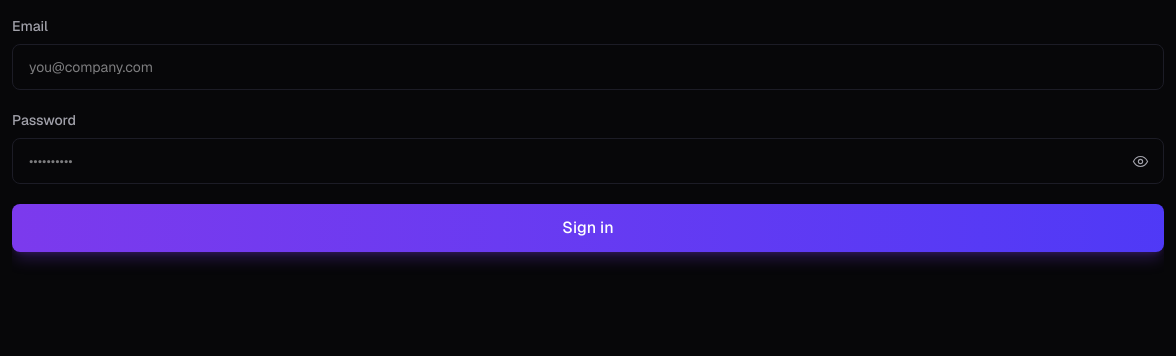
Test: LoginForm › reports an unreachable auth service
The width and height of the screenshot is (1176, 356).
In the field labelled "Email": (588, 67) [12,44,1164,90], type "a@b.test"
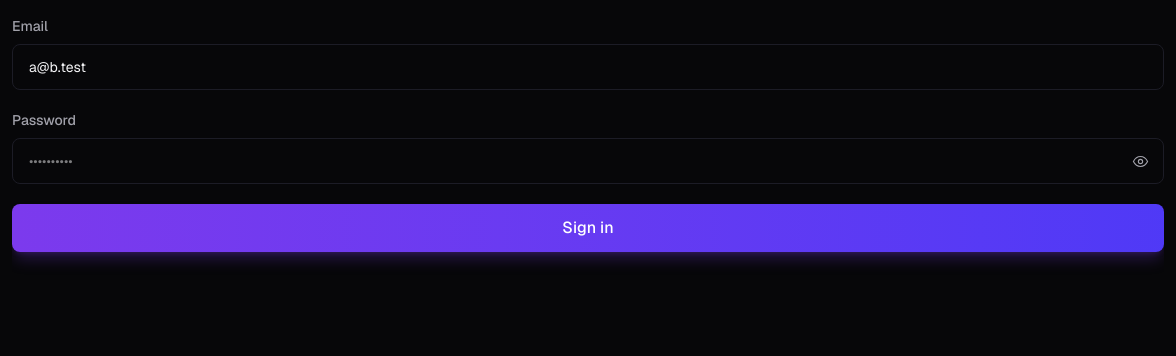
In the password field labelled "Password": (588, 161) [12,138,1164,184], type "secret"
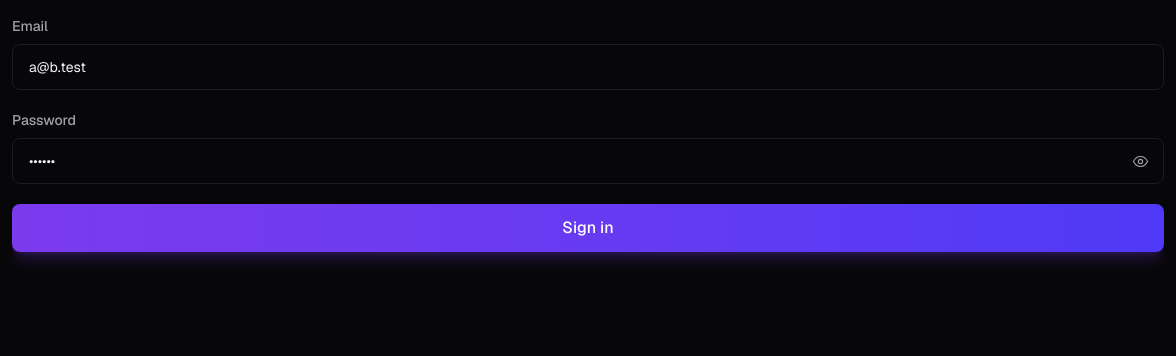
Click the button "Sign in": (588, 228) [12,204,1164,252]
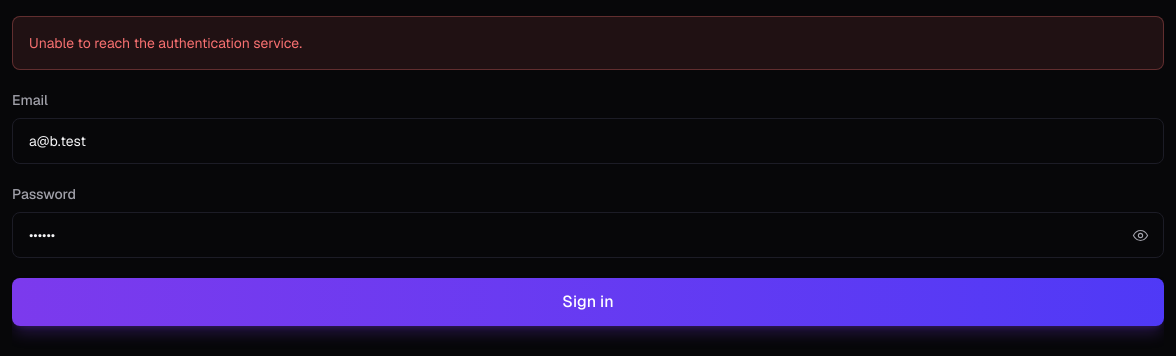
Now the message shows "Unable to reach", box [29,34,302,52]
